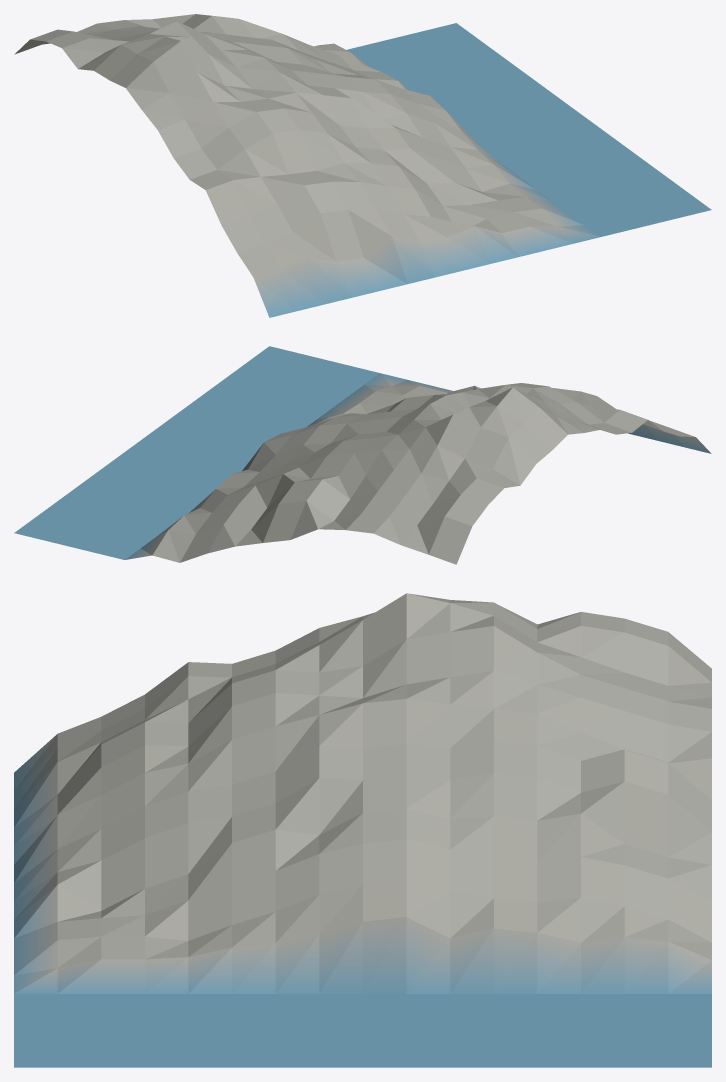
3 views of the same model, one above another, from view 1: azimuth 30°, elevation 25°; view 2: azimuth 150°, elevation 25°; view 3: azimuth 270°, elevation 25° (orthographic). The views are drawn at different scales.
Bounding box in the file's own units: 32 × 10.94 × 32.
